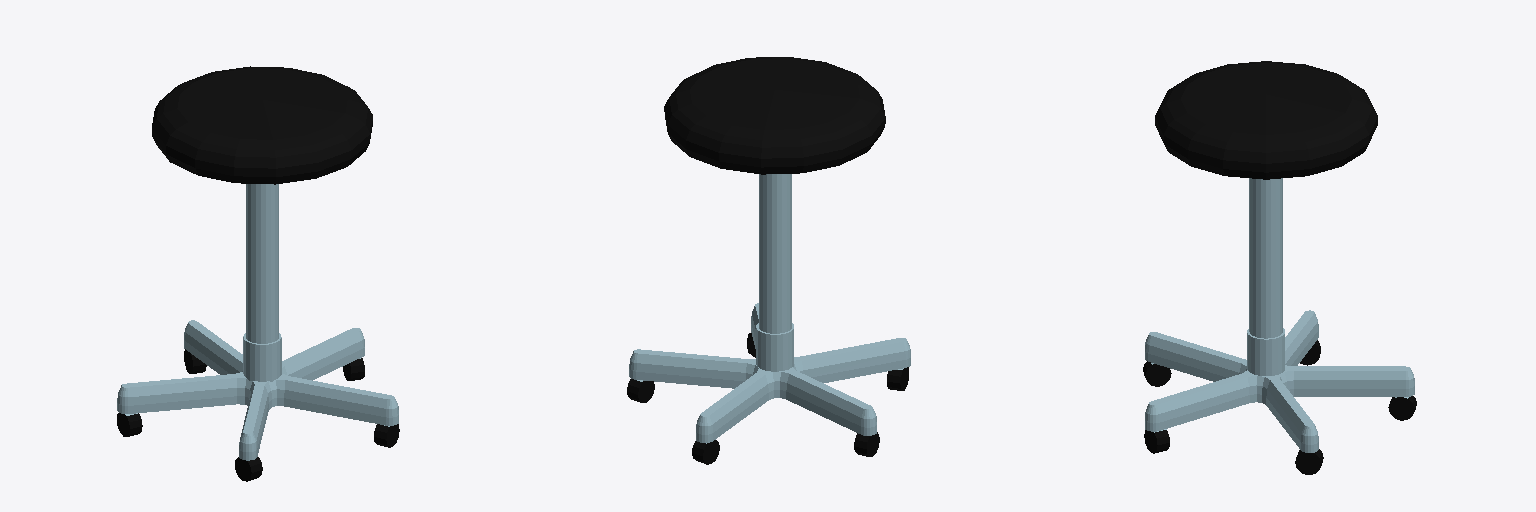
The model's file is Табуретка.obj.
3 views of the same model, side by side, from view 1: azimuth 30°, elevation 25°; view 2: azimuth 150°, elevation 25°; view 3: azimuth 270°, elevation 25° (orthographic).
Visible parts, largest first — view 1: Stool_Object01870_2, Stool_Object01_1, Stool_Object011048_3; view 2: Stool_Object01870_2, Stool_Object01_1, Stool_Object011048_3; view 3: Stool_Object01870_2, Stool_Object01_1, Stool_Object011048_3.
Boxes of the visible parts, x1=… form: Stool_Object01870_2: x1=152, y1=66, x2=372, y2=184; Stool_Object01_1: x1=117, y1=184, x2=398, y2=460; Stool_Object011048_3: x1=117, y1=349, x2=399, y2=481; Stool_Object01870_2: x1=664, y1=57, x2=885, y2=174; Stool_Object01_1: x1=629, y1=174, x2=910, y2=443; Stool_Object011048_3: x1=627, y1=333, x2=908, y2=464; Stool_Object01870_2: x1=1155, y1=61, x2=1377, y2=179; Stool_Object01_1: x1=1145, y1=178, x2=1414, y2=452; Stool_Object011048_3: x1=1143, y1=340, x2=1416, y2=474.
Size of the model in its own units: 38.89 by 48.89 by 37.66.